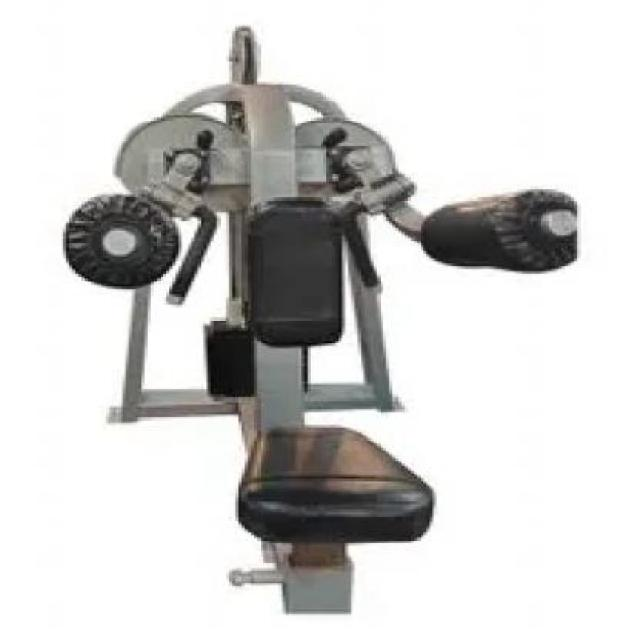lateral raises machine: (67, 27, 578, 616)
